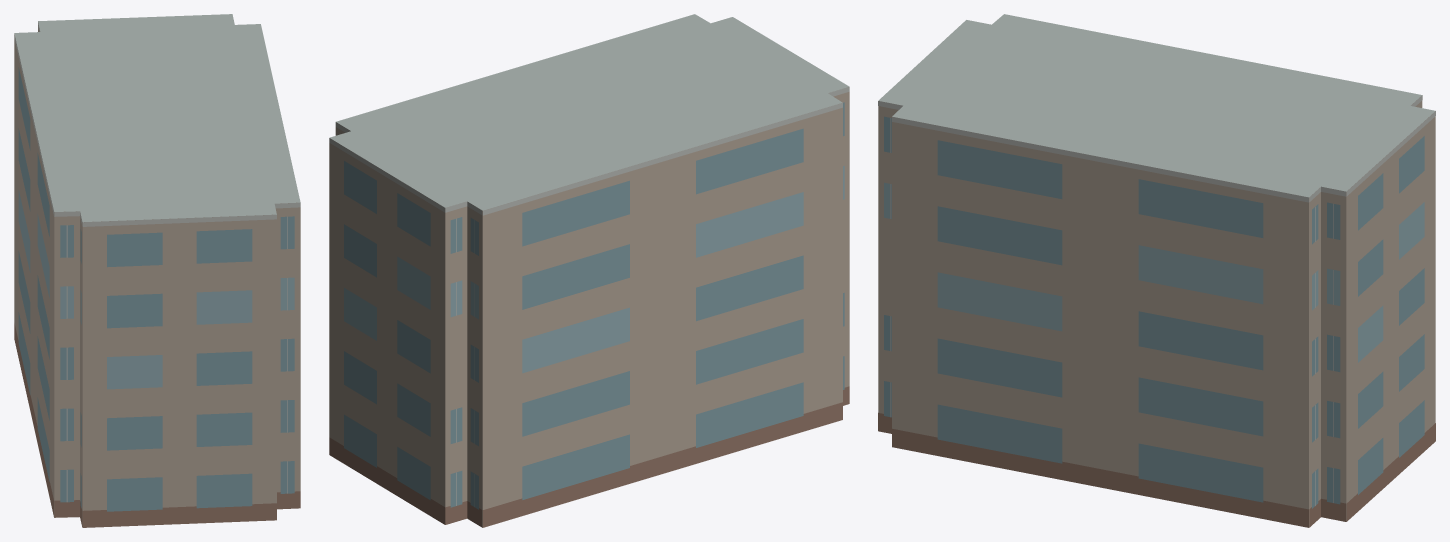
File: survey-upis-32553107.glb
3 views of the same model, side by side, from view 1: azimuth 30°, elevation 25°; view 2: azimuth 150°, elevation 25°; view 3: azimuth 270°, elevation 25° (orthographic). The views are drawn at different scales.
Parts seen in each view (by area): view 1: survey-upis-32553107.tmp; view 2: survey-upis-32553107.tmp; view 3: survey-upis-32553107.tmp.
Part boxes in pixels (bbox=[...]): survey-upis-32553107.tmp: bbox=[14, 14, 300, 527]; survey-upis-32553107.tmp: bbox=[329, 14, 849, 527]; survey-upis-32553107.tmp: bbox=[878, 14, 1435, 527].
Size of the model in its own units: 18.52 by 15.55 by 23.79.
